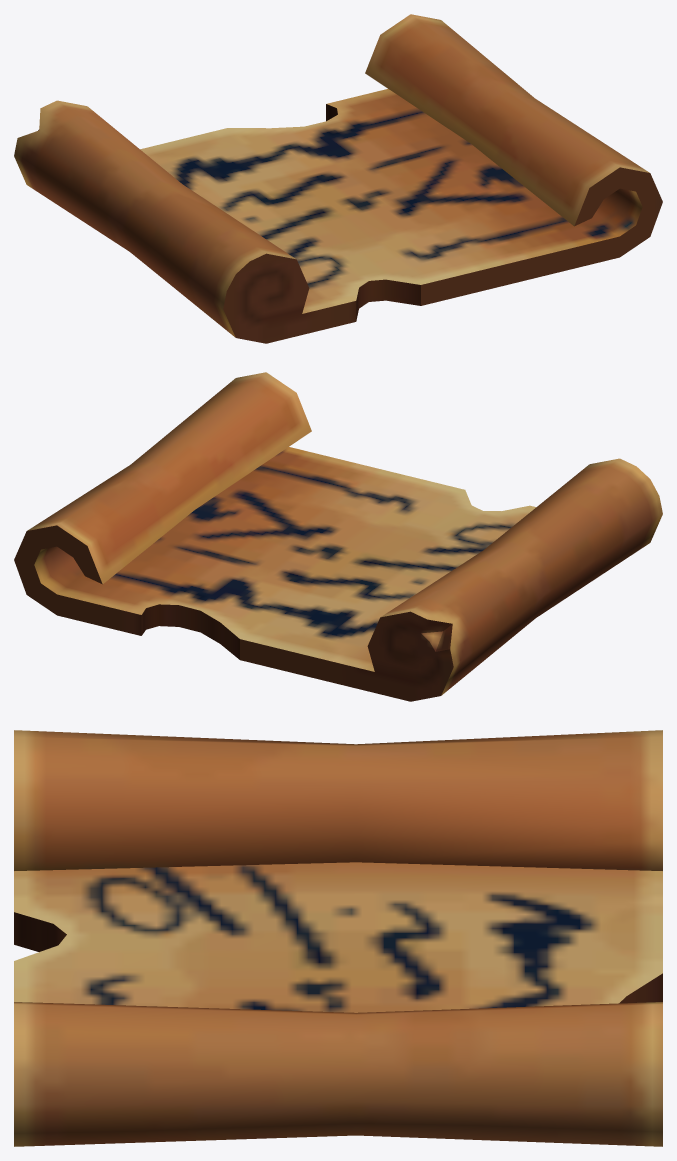
File: Scroll.fbx
The picture shows the model from 3 angles, top to bottom: view 1: azimuth 30°, elevation 25°; view 2: azimuth 150°, elevation 25°; view 3: azimuth 270°, elevation 25°; orthographic projection. The views are drawn at different scales.
Parts seen in each view (by area): view 1: Scroll; view 2: Scroll; view 3: Scroll.
Boxes of the visible parts, box(x1,y1,x2,y2) form: Scroll: box(14, 14, 662, 343); Scroll: box(14, 372, 662, 701); Scroll: box(14, 730, 662, 1146).
Bounding box in the file's own units: 33.97 × 6.65 × 28.
